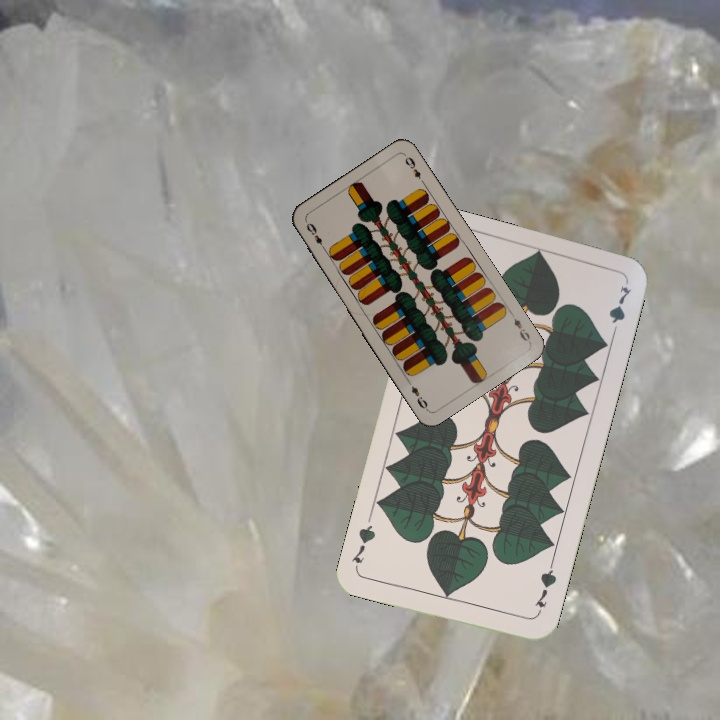E9: (302, 217, 329, 254), (506, 308, 533, 345)
G7: (531, 560, 559, 618)
